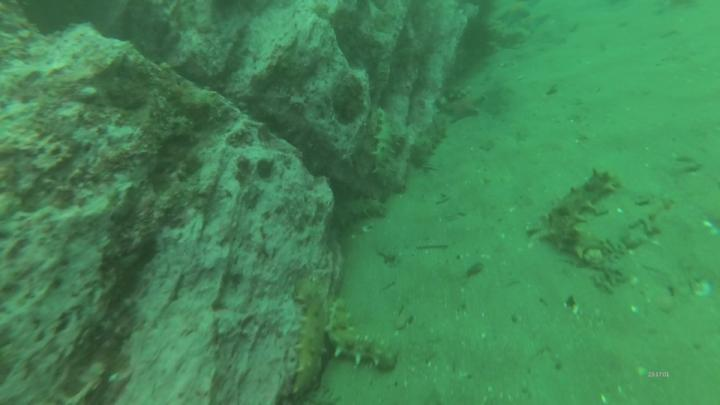holothurian: (547, 167, 622, 253), (325, 296, 400, 372), (289, 279, 330, 397), (409, 117, 450, 171), (374, 106, 400, 177), (332, 198, 392, 227)
starfish: (443, 90, 486, 124)
